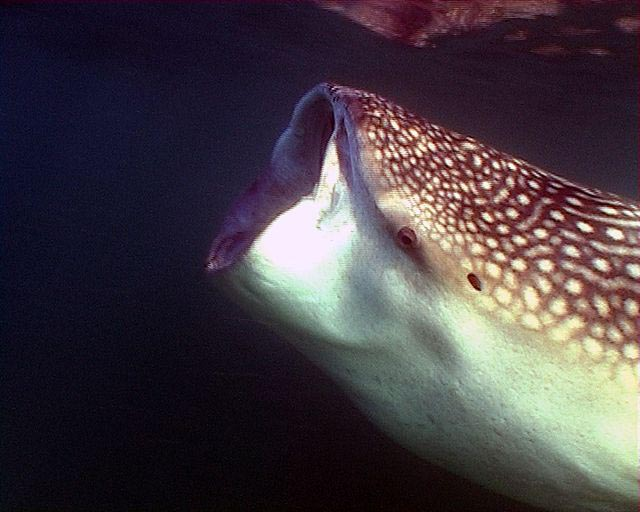Rhincodon_typusw: (170, 60, 640, 496)
